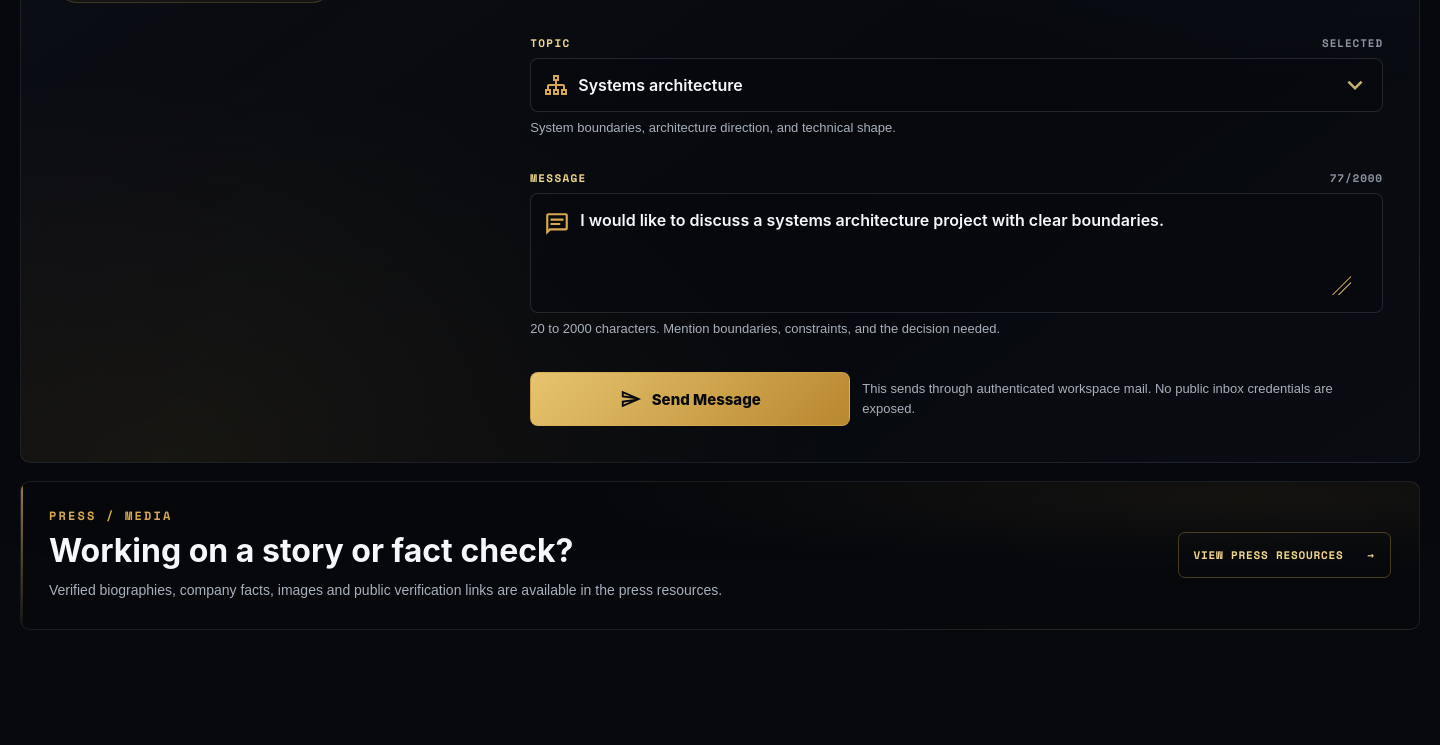
Test case: ContactComponent › posts valid contact data and shows success state
(page scrolled)
Click the submit button: (690, 399) [530, 372, 850, 426]
(page scrolled)
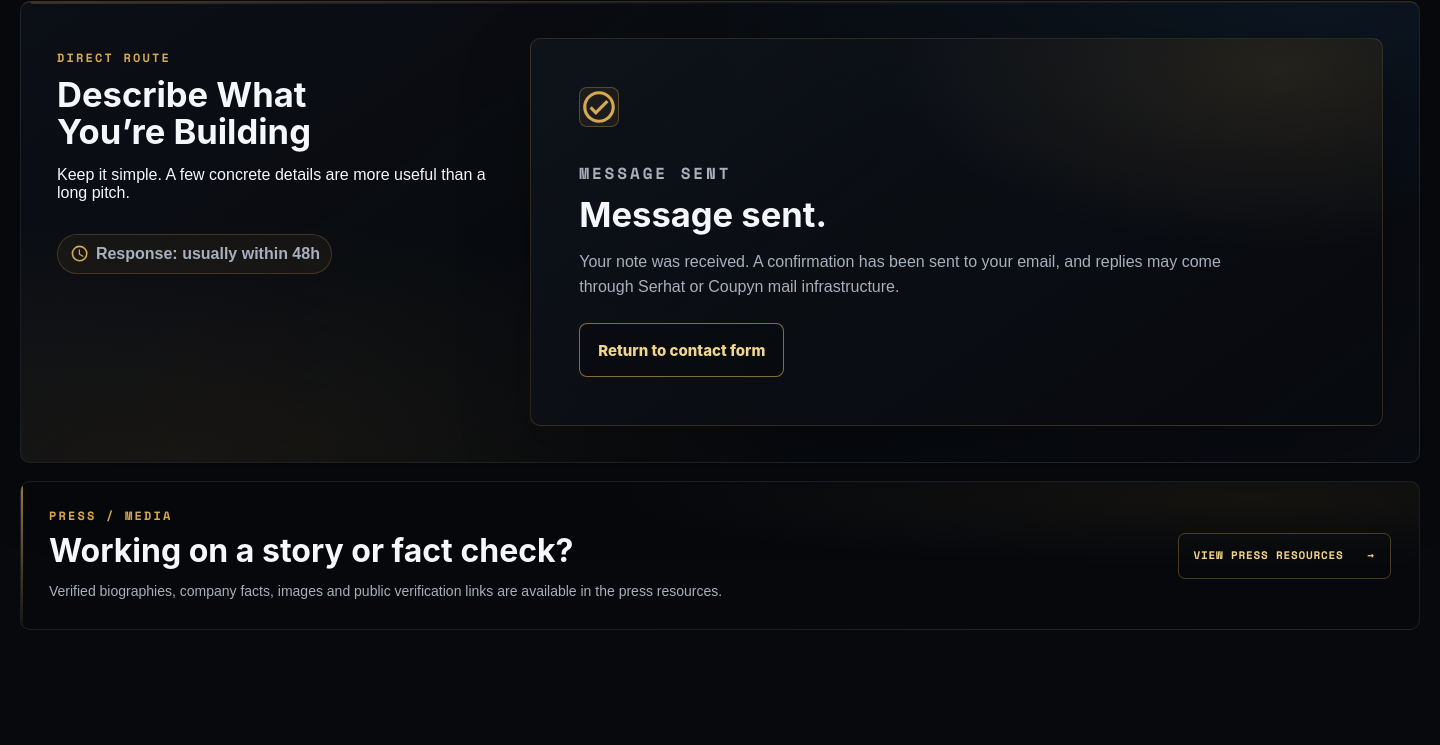
Check: the text "Message sent." is shown, box [579, 198, 827, 234]
Check: the text "Return to contact form" is shown, box [579, 323, 784, 377]
